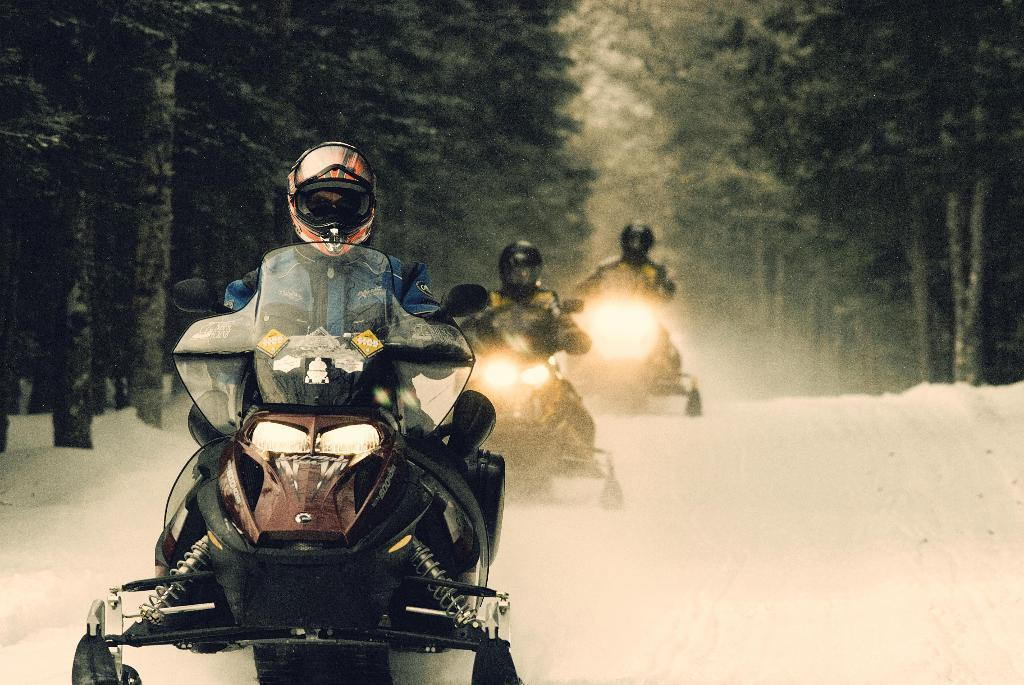helmet: (286, 140, 378, 258), (497, 238, 545, 301), (620, 221, 656, 266)
